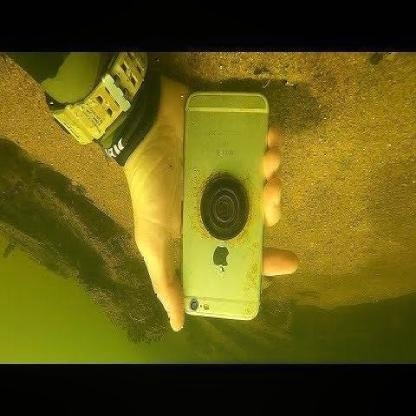cellphone: (184, 90, 270, 318)
